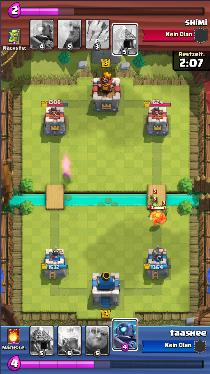ally_goblin_cage: (148, 211, 166, 226)
enemy_spear_goblin: (149, 194, 158, 205), (149, 202, 158, 209), (161, 205, 167, 211)
